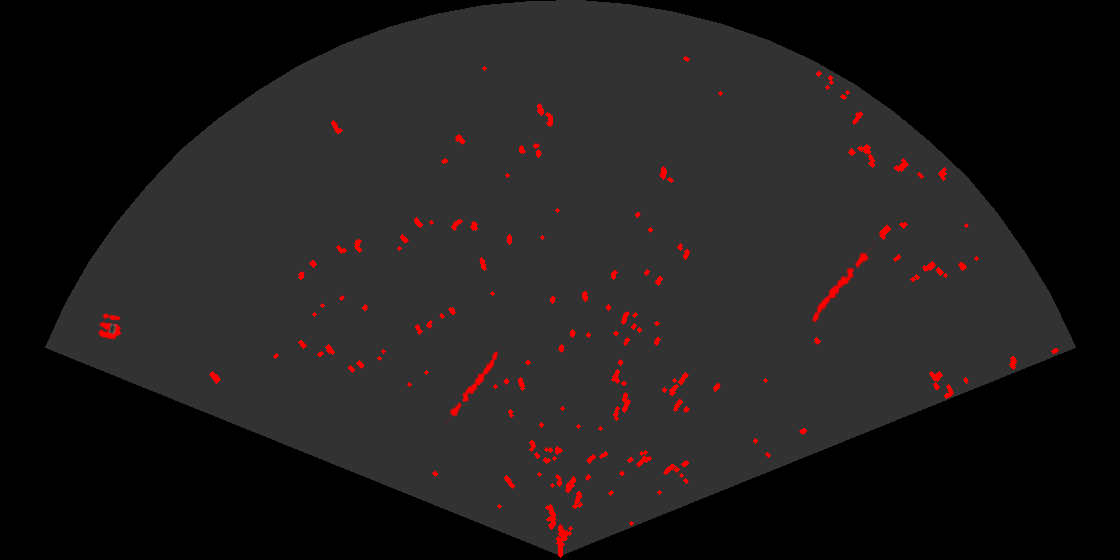ball: (96, 312, 123, 341)
chain: (811, 242, 874, 324), (444, 350, 500, 426)
